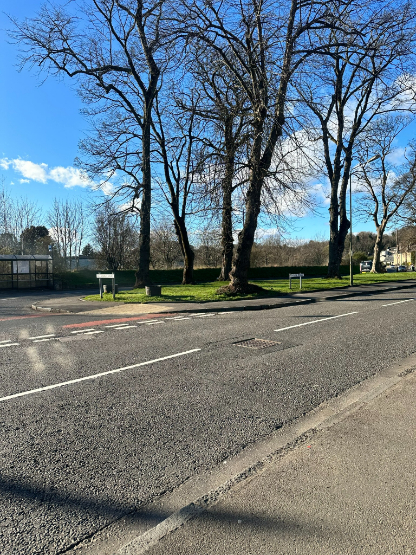tree: (3, 0, 180, 294), (293, 0, 416, 284), (181, 0, 298, 284)
